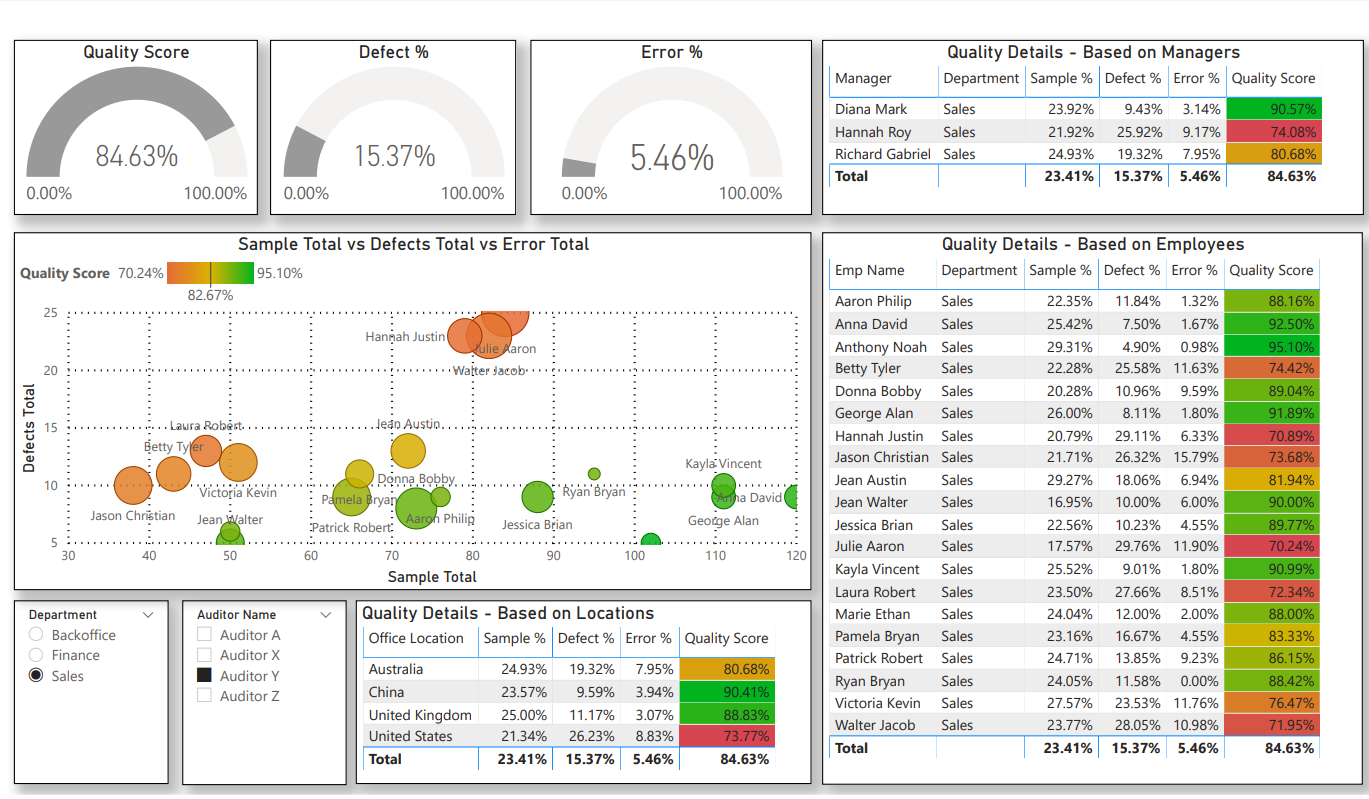

Layout of this report page (visuals, bound fields, positions):
{"tool":"powerbi","page":{"name":"Details","canvas":[1280,720],"ordinal":1},"visuals":[{"type":"slicer","fields":{"Values":["Employee Details.Department"]},"box":[18.5,538.8,144,171.2],"z":0},{"type":"gauge","fields":{"Y":["All Measures.Quality Score"]},"box":[18.5,17.5,226.6,163.4],"z":1},{"type":"slicer","fields":{"Values":["Auditor Details.Auditor Name"]},"box":[175.1,538.8,152.7,172.2],"z":2},{"type":"gauge","fields":{"Y":["All Measures.Defect %"]},"box":[256.8,17.5,228.6,163.4],"z":3},{"type":"gauge","title":"Error %","fields":{"Y":["All Measures.Erro %"]},"box":[499,17.5,261.6,163.4],"z":4},{"type":"scatterChart","title":"Sample Total vs Defects Total vs Error Total","fields":{"Category":["Employee Details.Emp Name"],"X":["All Measures.Sample Total"],"Y":["All Measures.Defects Total"],"Size":["All Measures.Errors Total"]},"box":[18.5,196.5,742.1,332.6],"z":5},{"type":"tableEx","title":"Quality Details - Based on Locations","fields":{"Values":["Employee Details.Office Location","All Measures.Sample %","All Measures.Defect %","All Measures.Erro %","All Measures.Quality Score"]},"box":[336.5,538.8,424.1,171.2],"z":6},{"type":"tableEx","title":"Quality Details - Based on Managers","fields":{"Values":["Employee Details.Manager","Employee Details.Department","All Measures.Sample %","All Measures.Defect %","All Measures.Erro %","All Measures.Quality Score"]},"box":[770.3,17.5,503.8,163.4],"z":7},{"type":"tableEx","title":"Quality Details - Based on Employees","fields":{"Values":["Employee Details.Emp Name","Employee Details.Department","All Measures.Sample %","All Measures.Defect %","All Measures.Erro %","All Measures.Quality Score"]},"box":[770.3,196.5,502.9,513.6],"z":8}]}

Visuals, with their boxes on the page's 1280x720 design canvas (x1, y1, x2, y2). These are canvas units, not pixel positions in the 1369x799 screenshot, which may show the page scaled, cropped or inside an application window:
slicer - Employee Details.Department: bbox=(18, 539, 162, 710)
gauge - All Measures.Quality Score: bbox=(18, 18, 245, 181)
slicer - Auditor Details.Auditor Name: bbox=(175, 539, 328, 711)
gauge - All Measures.Defect %: bbox=(257, 18, 485, 181)
"Error %" gauge: bbox=(499, 18, 761, 181)
"Sample Total vs Defects Total vs Error Total" scatterChart: bbox=(18, 196, 761, 529)
"Quality Details - Based on Locations" tableEx: bbox=(336, 539, 761, 710)
"Quality Details - Based on Managers" tableEx: bbox=(770, 18, 1274, 181)
"Quality Details - Based on Employees" tableEx: bbox=(770, 196, 1273, 710)
